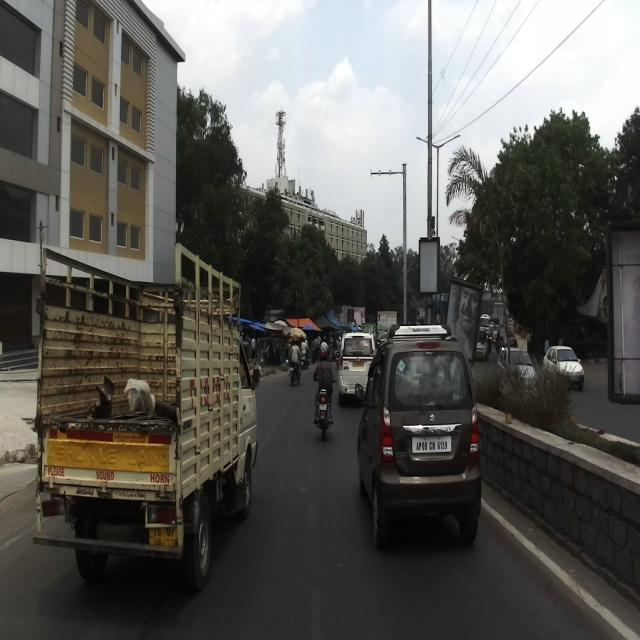Car_Mahindra: (336, 329, 377, 407)
Car_Maruti-Suzuki: (354, 324, 482, 547)
motorcycle_Hero: (313, 375, 336, 442)
truck: (32, 243, 260, 593)
